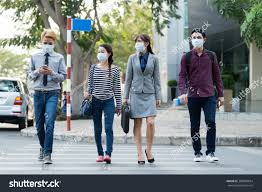with-mask: (33, 28, 61, 56), (130, 31, 157, 59), (187, 25, 210, 53), (92, 42, 115, 65)
